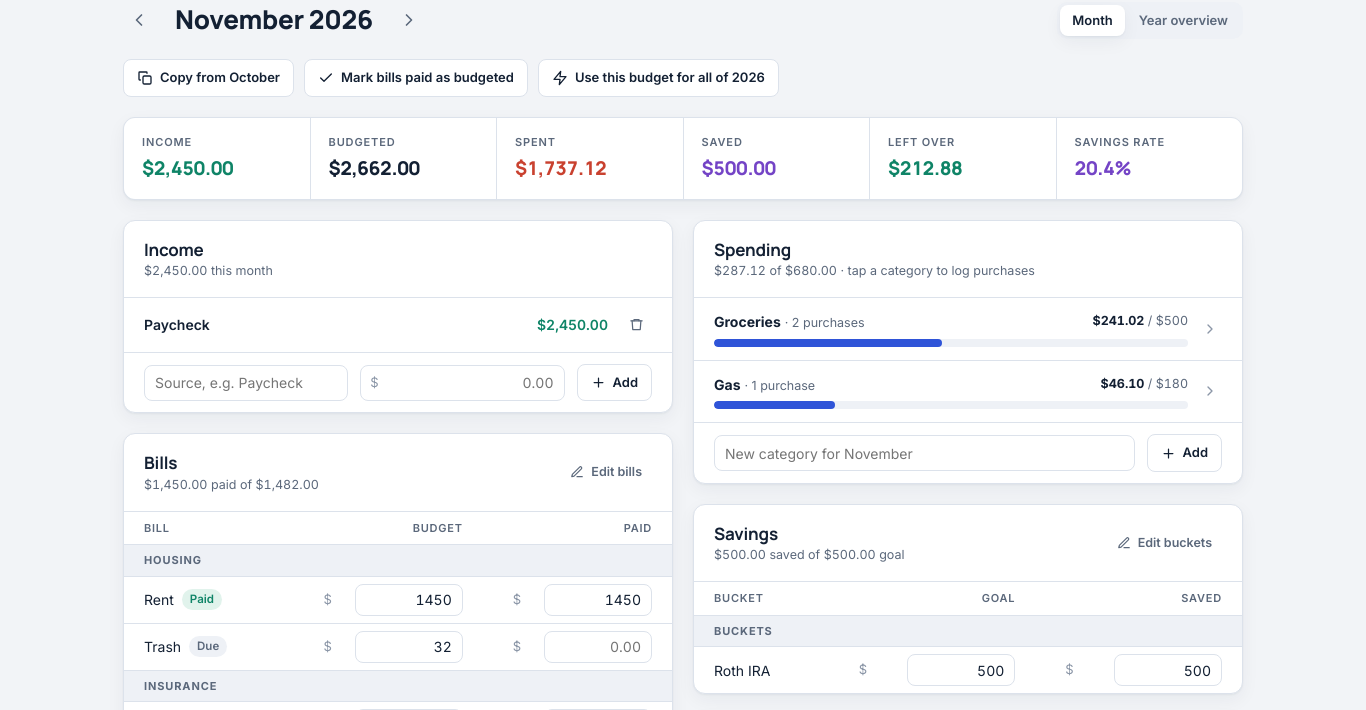
budget page › asks before applying the budget to the whole year
Later steps or results of the test are not shown.
Click the button "Use this budget for all of 2026".
click(658, 78)  # box x1=538 y1=59 x2=779 y2=96
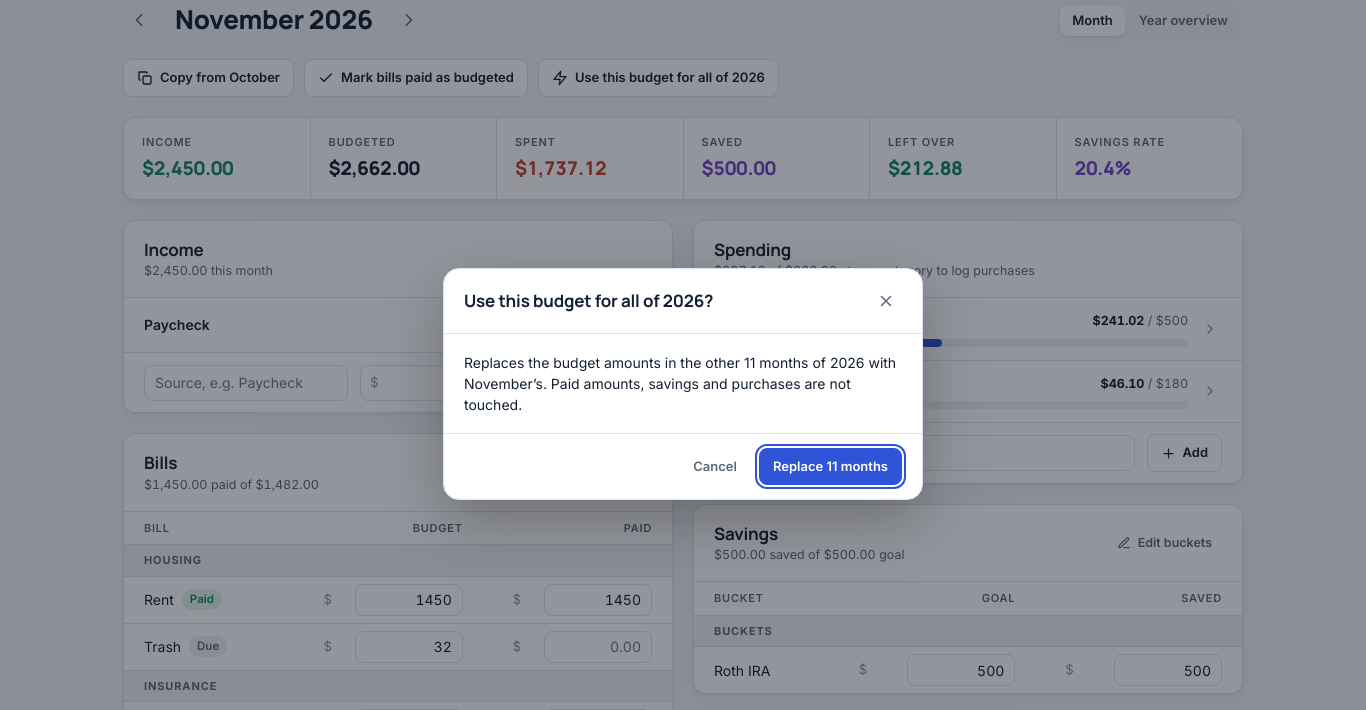
Expected: the dialog shows "Replaces the budget amounts in the other 11 months", x1=464 y1=354 x2=896 y2=413
